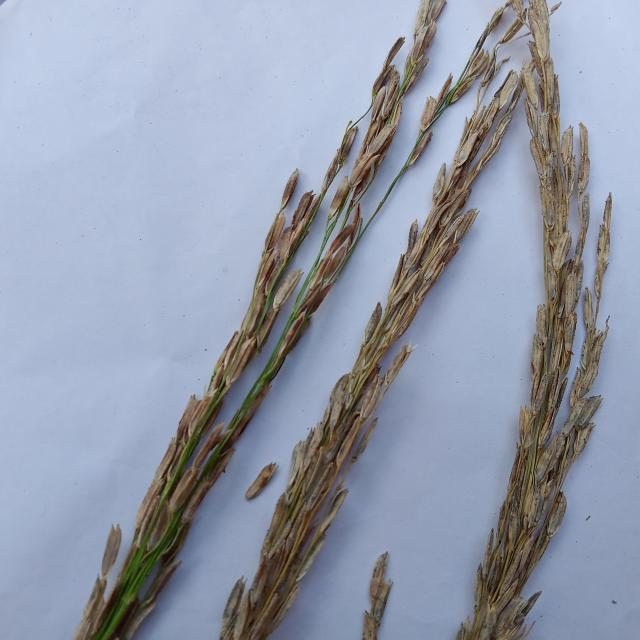Neck_Blast: (218, 56, 524, 640), (152, 0, 460, 513), (438, 0, 615, 640)
